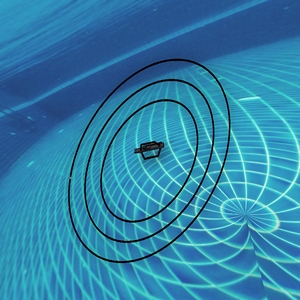circle: (47, 47, 243, 272)
submarine: (138, 141, 163, 159)
